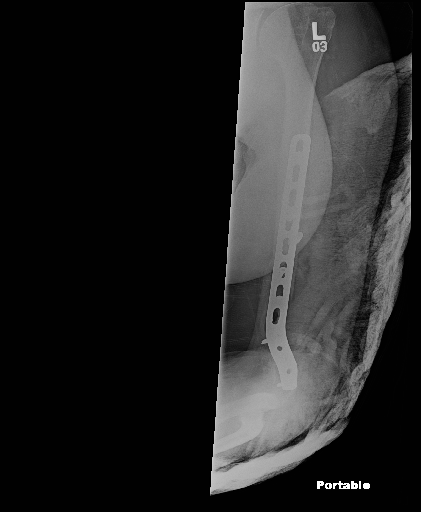implant: (263, 133, 302, 394)
